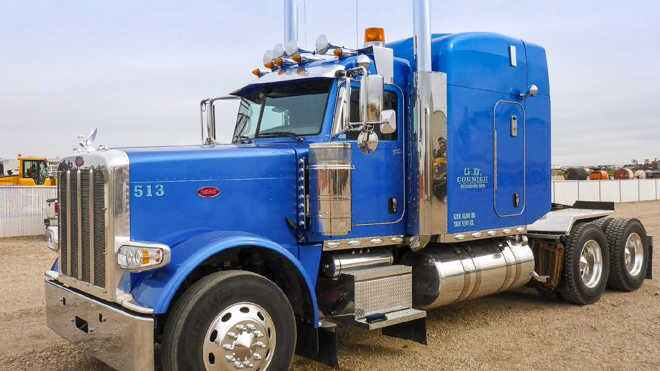Truck: (40, 10, 564, 371)
